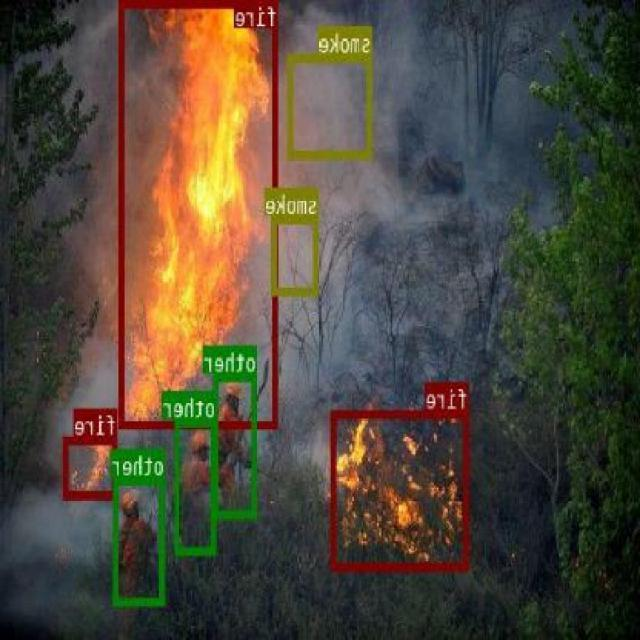Fire: (120, 0, 278, 426), (332, 409, 470, 568), (64, 434, 118, 498)
Smoke: (288, 54, 374, 157), (274, 214, 320, 294)
